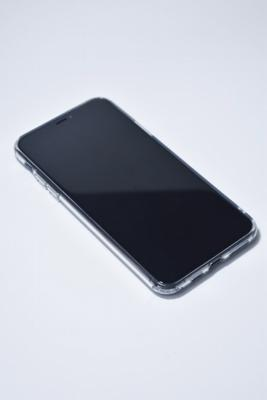cell-phone: (12, 92, 258, 298)
